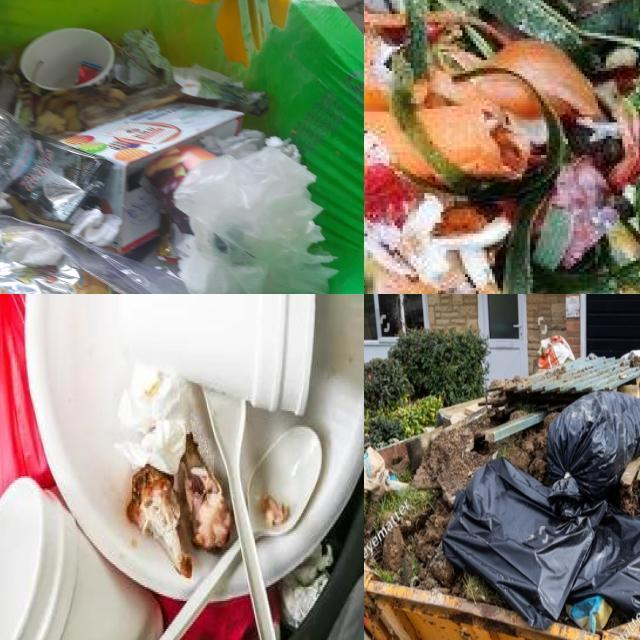Disposable: (29, 294, 193, 599), (0, 478, 164, 640), (121, 294, 316, 414), (204, 388, 276, 640), (247, 429, 322, 537), (160, 540, 240, 640)
Garbage: (0, 294, 364, 640), (0, 29, 336, 294), (364, 336, 640, 632), (364, 0, 640, 294)
Plastic_Bag: (443, 458, 605, 627), (170, 138, 336, 294), (547, 390, 640, 516), (569, 505, 640, 617), (181, 596, 258, 640), (566, 595, 613, 632), (538, 334, 574, 369), (157, 596, 183, 626), (268, 586, 279, 628), (60, 179, 63, 183)
Plastic_wraper: (9, 134, 111, 223), (157, 213, 179, 263), (74, 61, 102, 84)
Tetrapack: (62, 102, 243, 252)
